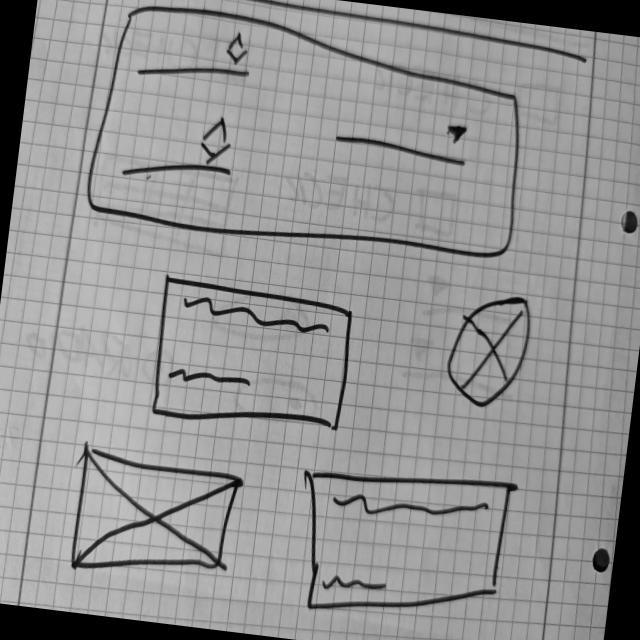container: (82, 1, 537, 271)
number-input: (119, 104, 241, 192), (137, 19, 257, 91)
select: (146, 274, 361, 443), (331, 101, 473, 169)
